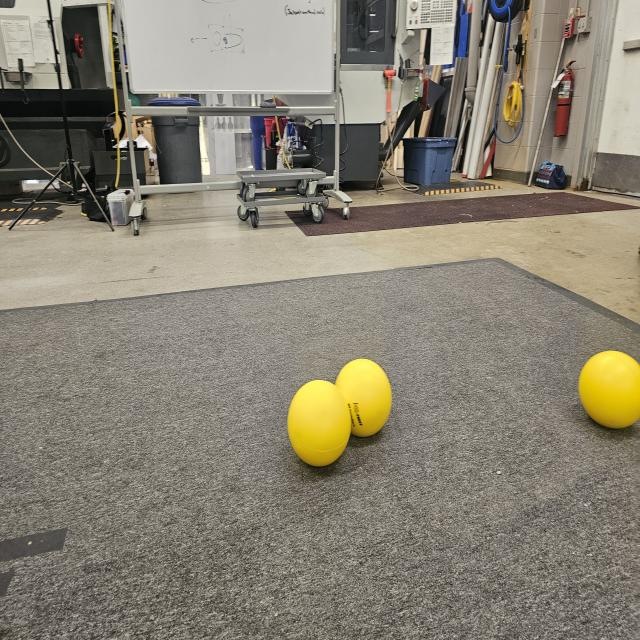Fuel: (288, 380, 351, 466), (579, 350, 640, 429), (334, 359, 392, 437)
